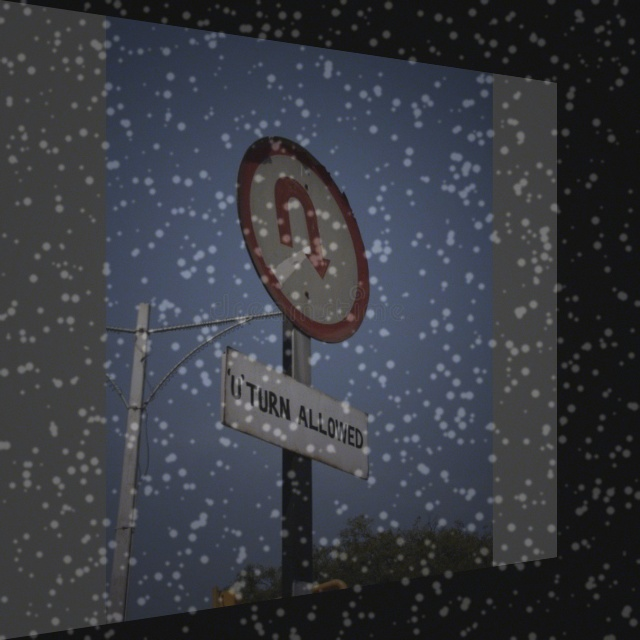U_Turn_Ahead: (226, 124, 379, 336)
